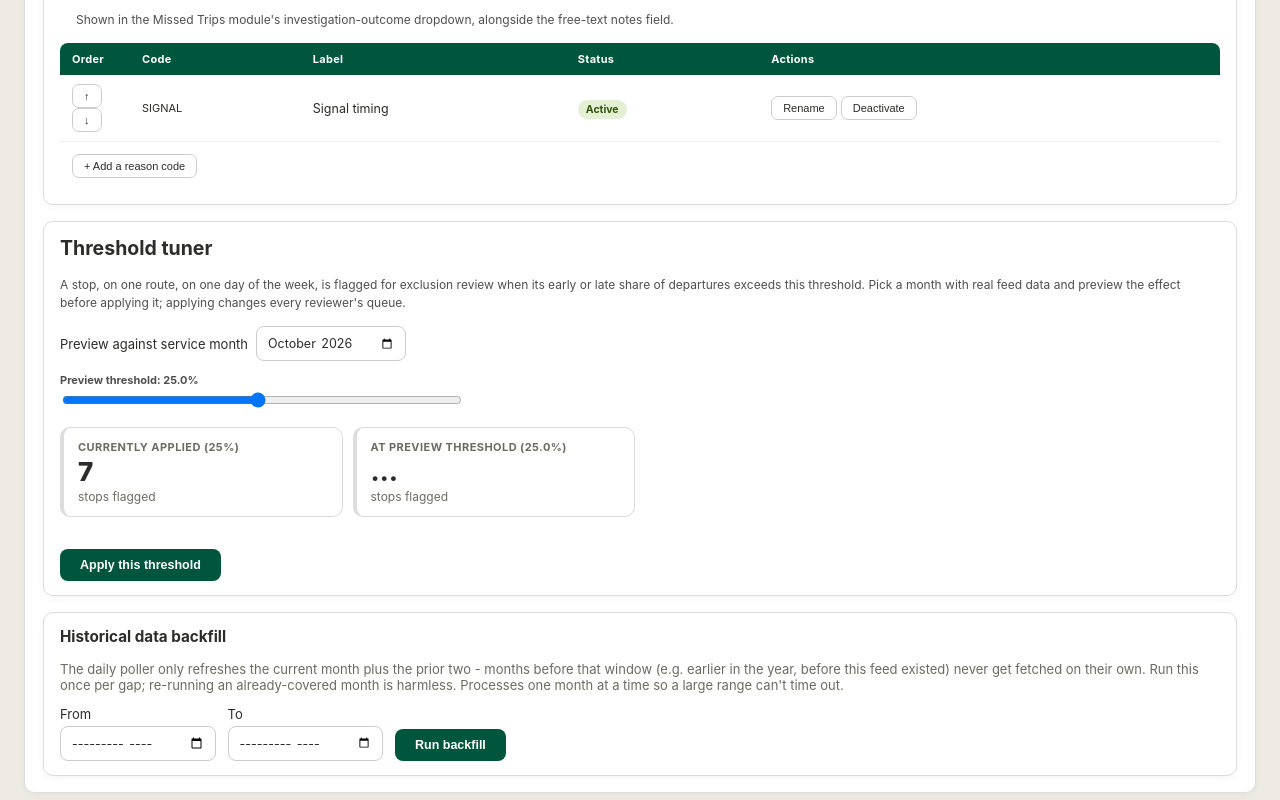
Test: OTP compliance administration › asks the server for the count at a trial threshold instead of working it out here
This screenshot has width=1280, height=800.
(page scrolled)
Expected: the text "Currently applied (25%)" is shown, [78,440,239,454]
Expected: the text "7" is shown, [78,456,93,487]
Set the slider to "40" at {"x": 376, "y": 400}, box [62,392,462,408]
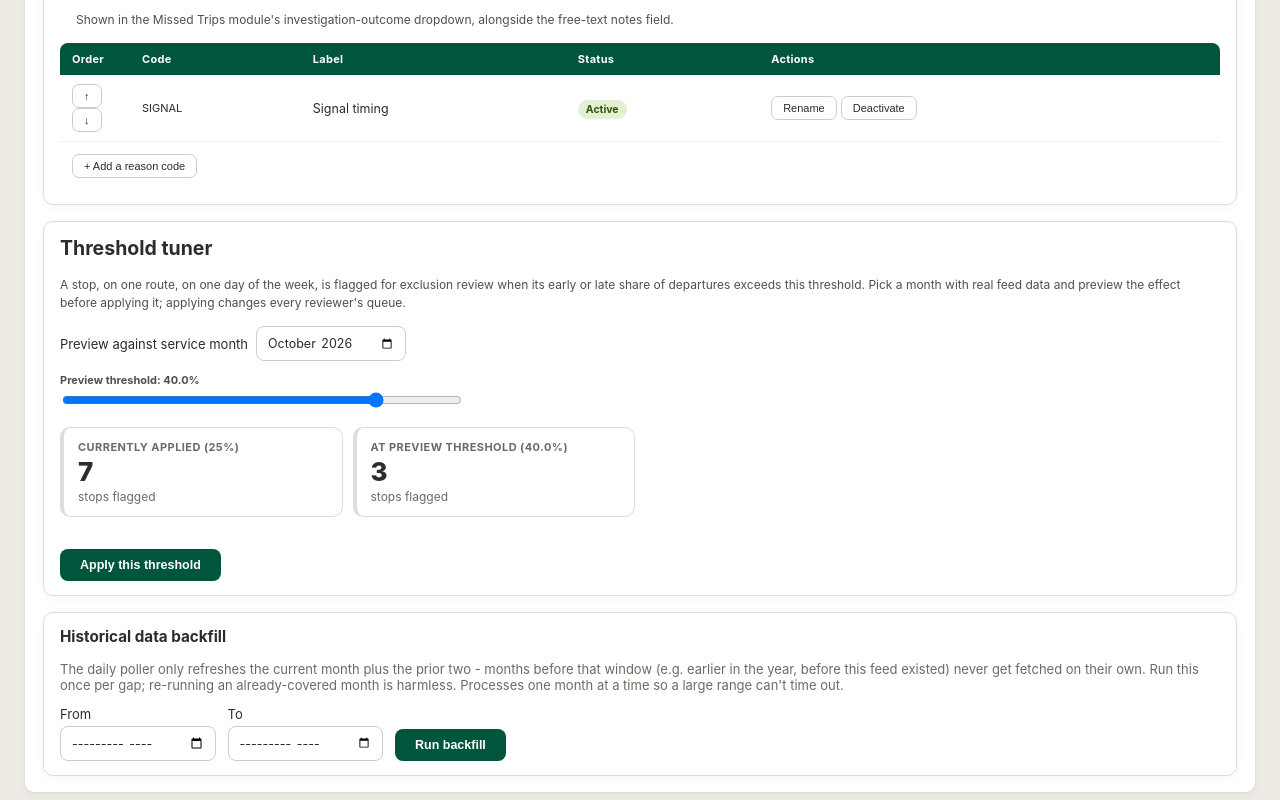
Expected: the text "At preview threshold (40.0%)" is shown, [370,440,568,454]
